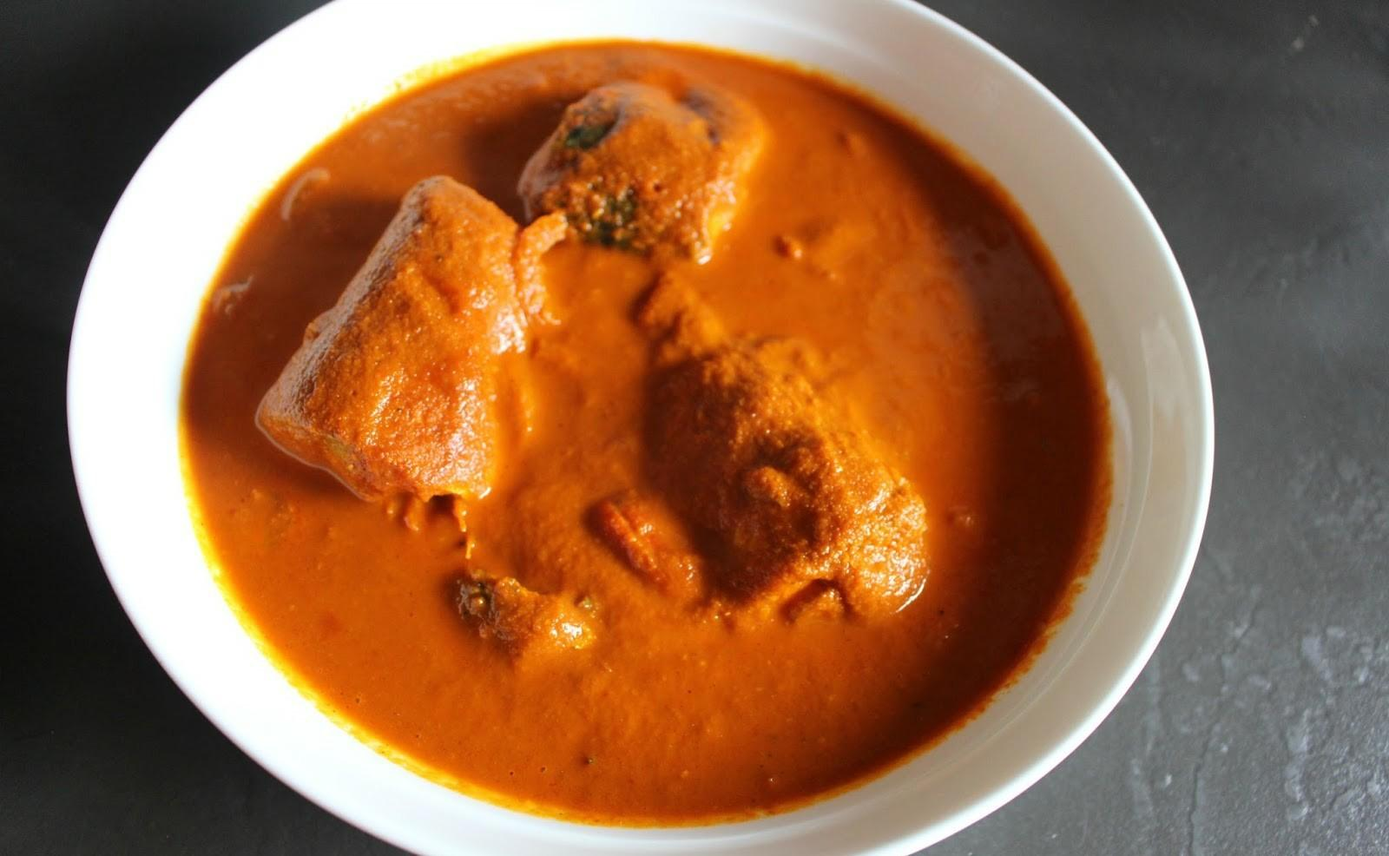FishCurry: (183, 40, 1113, 823)
